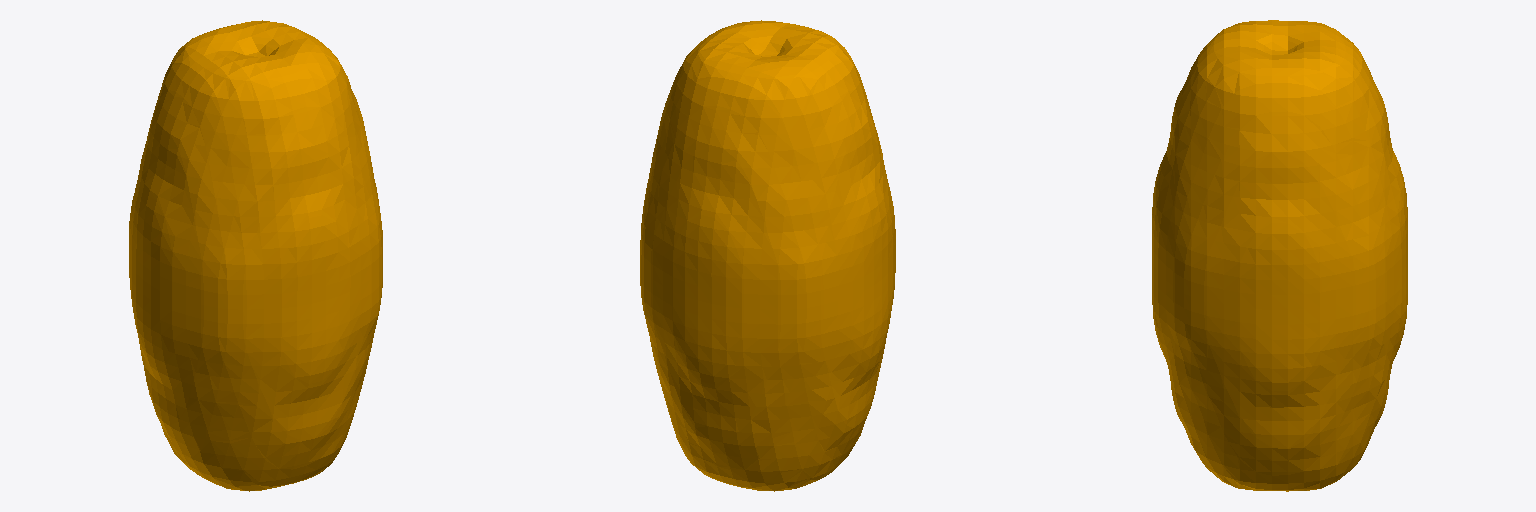
The robot description file, URDF, robot "I07_0":
<?xml version="1.0"?>
<robot name="I07_0">
  <link name="base_link">
    <visual>
      <geometry>
        <mesh filename="../../../../meshes/egad/train/I07_0.obj" />
      </geometry>
    </visual>
  </link>
</robot>

--- Render facts (derived) ---
The picture shows the robot from 3 angles, left to right: view 1: azimuth 30°, elevation 25°; view 2: azimuth 150°, elevation 25°; view 3: azimuth 270°, elevation 25°; orthographic projection.
Model I07_0 with 1 links and 0 joints (none), rooted at base_link, posed all joints at 0.
Visible links, largest first — view 1: base_link; view 2: base_link; view 3: base_link.
Link boxes in pixels (<box>): base_link: <box>129,20,382,491</box>; base_link: <box>640,20,895,491</box>; base_link: <box>1152,20,1407,491</box>.
Size in the robot's own frame: 0.0404 by 0.0404 by 0.075 metres.
1 mesh visuals loaded from 1 distinct referenced files (1 OBJ).